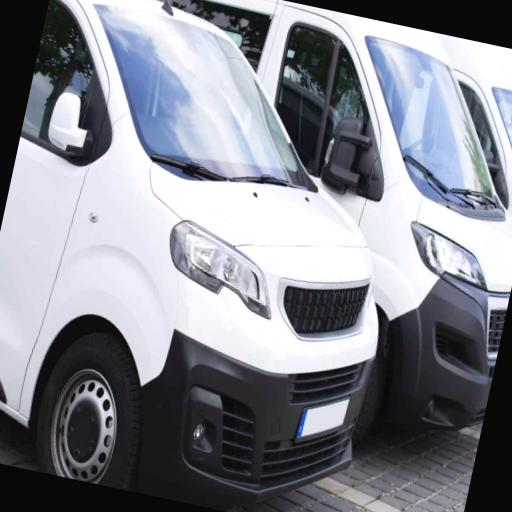van: (0, 0, 512, 503)
